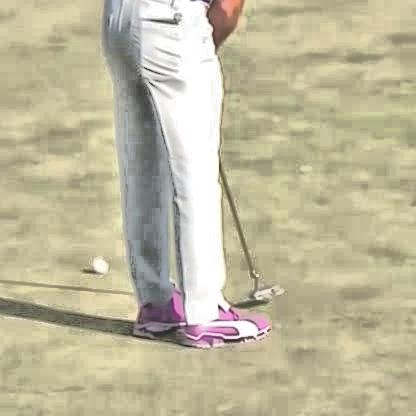golfball: (90, 256, 108, 272)
